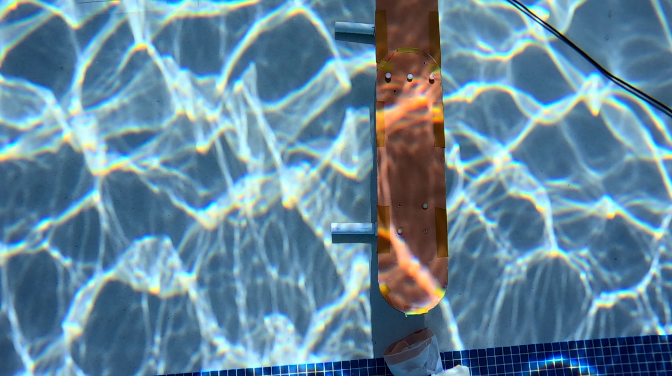pathmarker: (374, 0, 450, 312)
